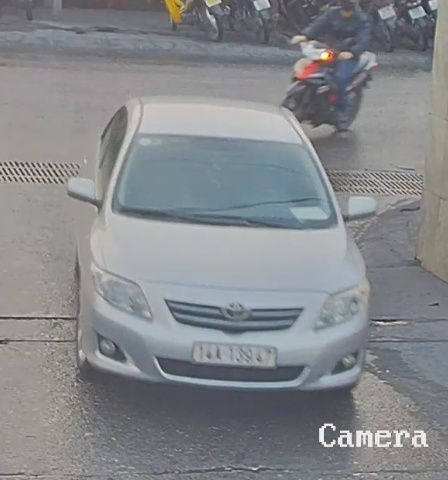vehicle plate: (190, 333, 280, 373)
